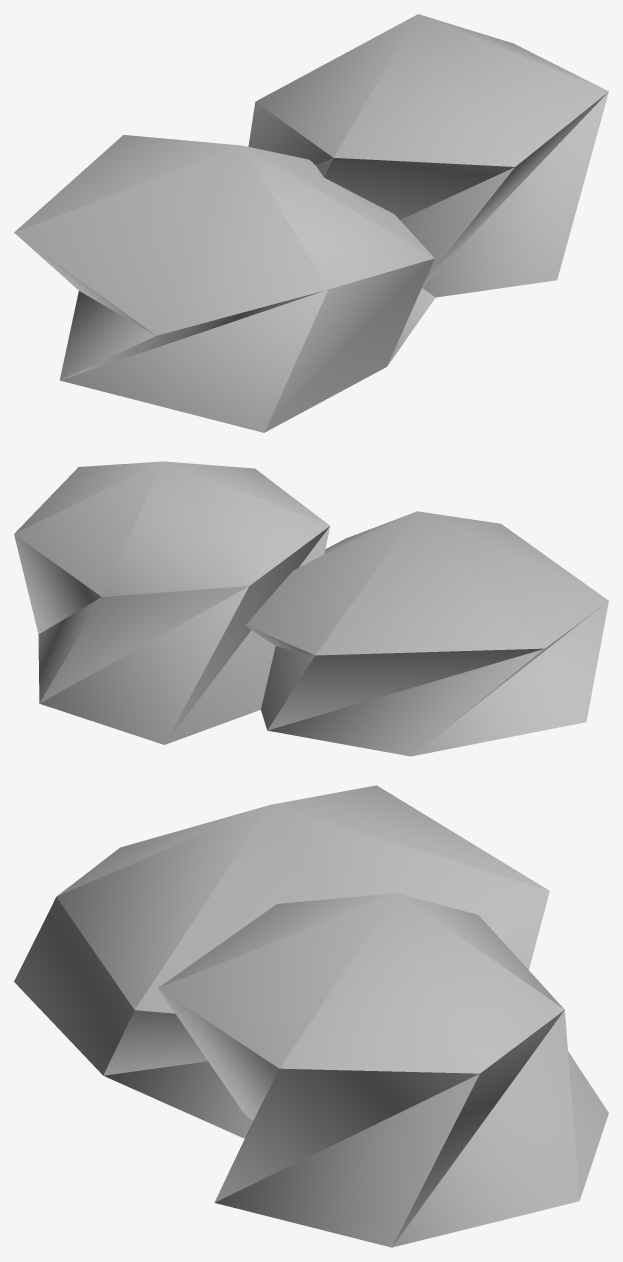
Rendered from item_rm_bioferrite_b.obj.
3 renders of one model, top to bottom at view 1: azimuth 30°, elevation 25°; view 2: azimuth 150°, elevation 25°; view 3: azimuth 270°, elevation 25°, orthographic. The views are drawn at different scales.
Parts seen in each view (by area): view 1: source_component_000, source_component_001; view 2: source_component_000, source_component_001; view 3: source_component_001, source_component_000.
Boxes of the visible parts, left/top/right/bottom form: source_component_000: left=14, top=135, right=435, bottom=432; source_component_001: left=248, top=14, right=608, bottom=297; source_component_000: left=246, top=511, right=608, bottom=756; source_component_001: left=14, top=461, right=330, bottom=744; source_component_001: left=158, top=893, right=608, bottom=1247; source_component_000: left=14, top=785, right=549, bottom=1138.
Size of the model in its own units: 0.8987 by 0.3504 by 0.6933.
